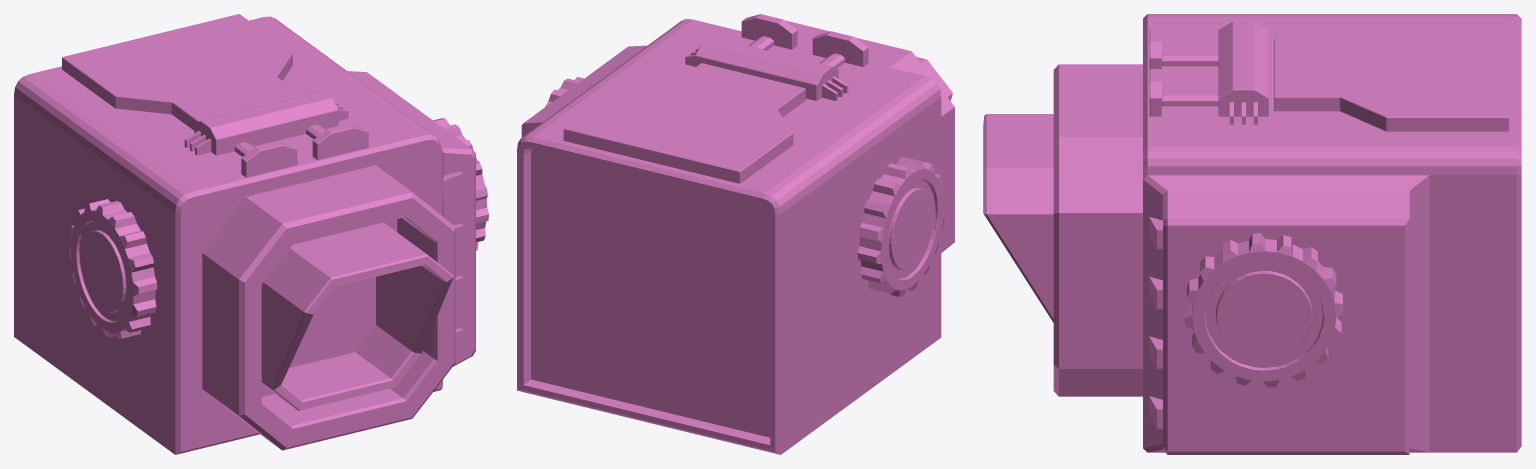
File: Gun Body.fbx
The picture shows the model from 3 angles, left to right: view 1: azimuth 30°, elevation 25°; view 2: azimuth 150°, elevation 25°; view 3: azimuth 270°, elevation 25°; orthographic projection. The views are drawn at different scales.
Visible parts, largest first — view 1: Gun body; view 2: Gun body; view 3: Gun body.
Boxes of the visible parts, x1,y1,x2,y2 form: Gun body: [14, 14, 488, 454]; Gun body: [517, 14, 954, 454]; Gun body: [983, 14, 1521, 454].
Bounding box in the file's own units: 78.88 × 60.18 × 90.78.
